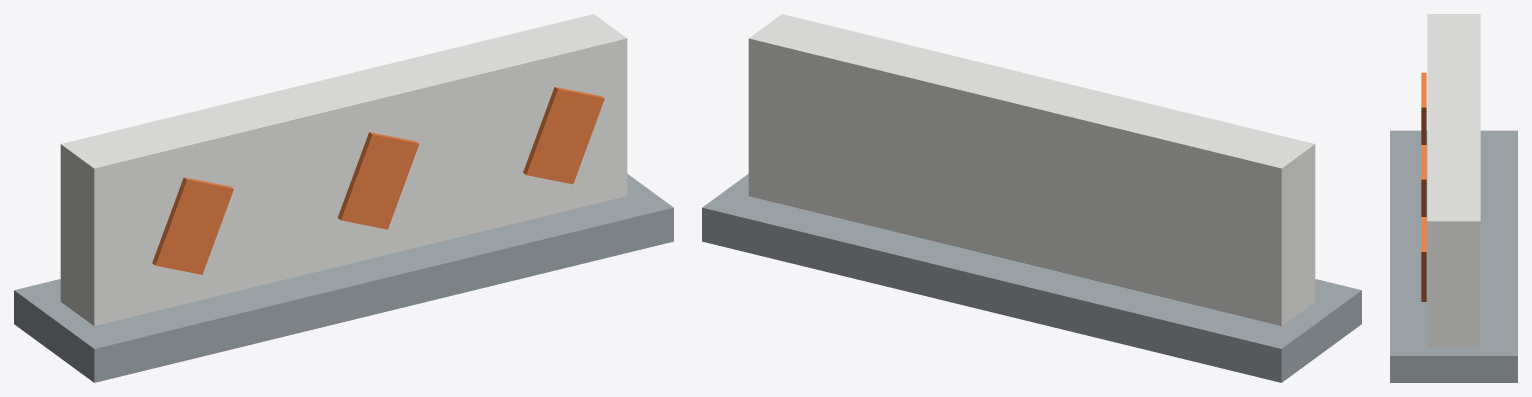
The model's file is long-haul-trucking-and-truck-stop-concrete-barrier-4f984e37__13998.glb.
The picture shows the model from 3 angles, left to right: view 1: azimuth 30°, elevation 25°; view 2: azimuth 150°, elevation 25°; view 3: azimuth 270°, elevation 25°; orthographic projection. The views are drawn at different scales.
Visible parts, largest first — view 1: concrete-barrier; view 2: concrete-barrier; view 3: concrete-barrier.
Boxes of the visible parts, left/top/right/bottom form: concrete-barrier: left=14, top=14, right=673, bottom=382; concrete-barrier: left=702, top=14, right=1361, bottom=382; concrete-barrier: left=1390, top=14, right=1517, bottom=382.
Bounding box in the file's own units: 2.5 × 0.7901 × 0.6.
